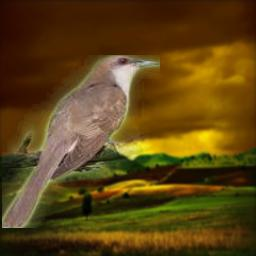Cuckoo: (2, 55, 160, 228)
